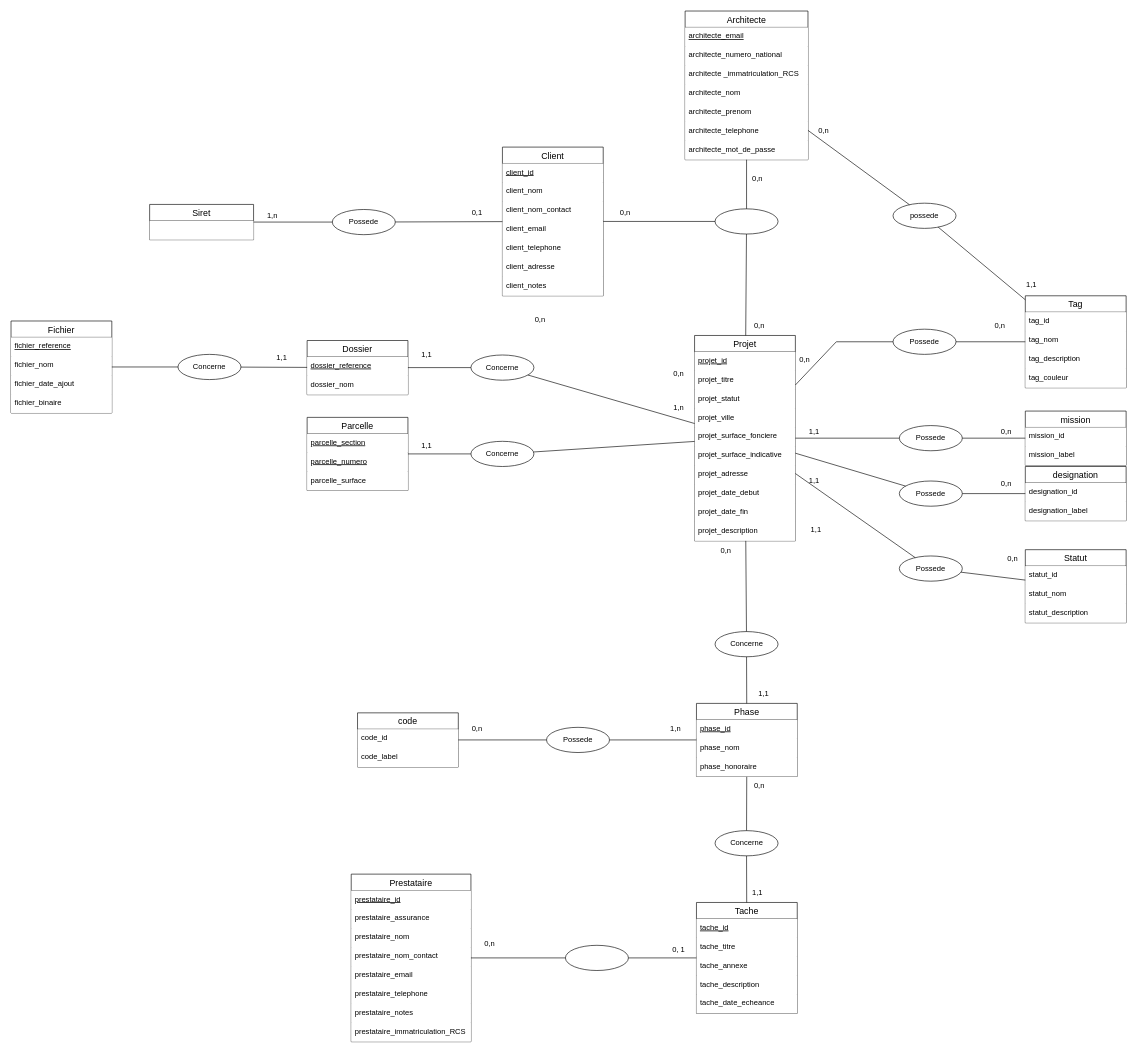
This 1137x1055 diagram has some shape labels left out. The shapes that lost their labels are listed below. From the top down, each one's centre as x and y in pixels, then its label:
pixel 201 229: immatriculation_RCS
pixel 746 221: Realise
pixel 596 958: Assigner
